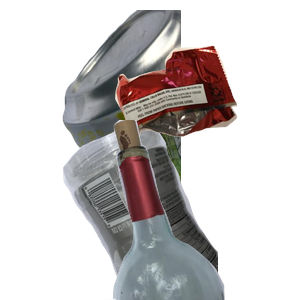glass: (89, 120, 300, 300)
metal: (60, 10, 300, 190)
plastic: (60, 120, 300, 300)
trash: (113, 43, 300, 181)
